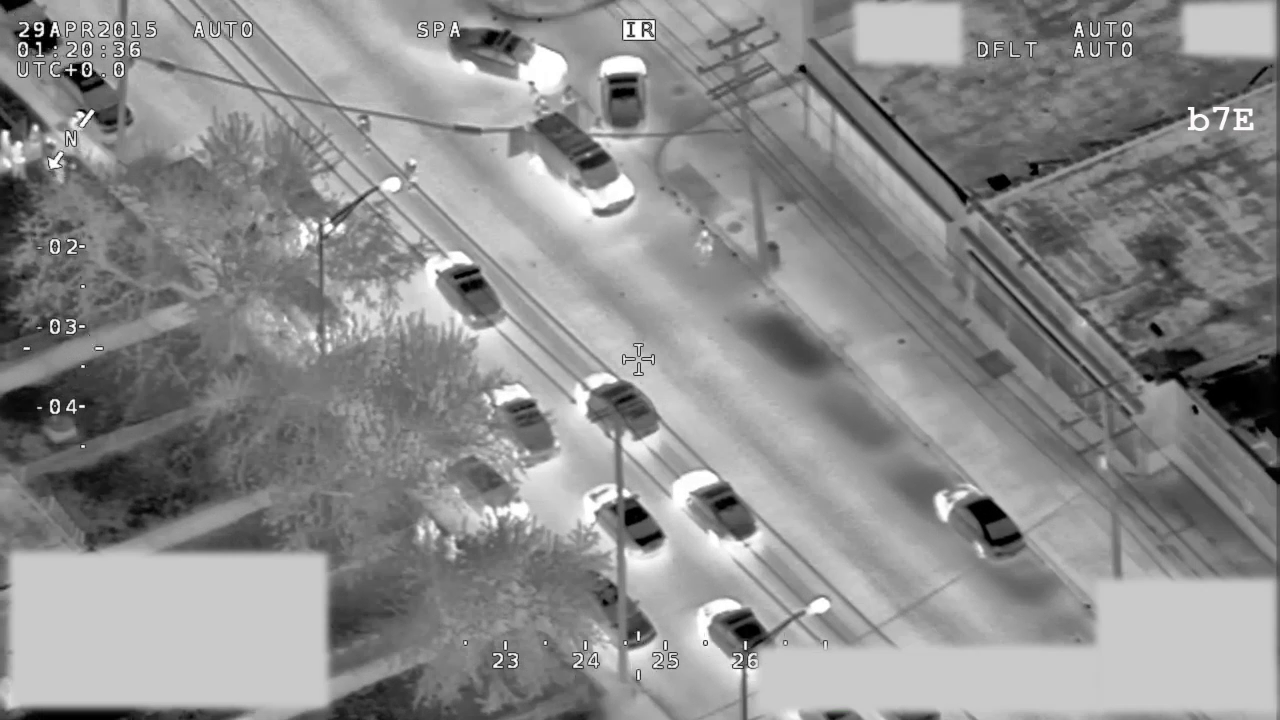vehicle: (502, 106, 638, 218), (470, 369, 564, 475), (927, 471, 1030, 567), (447, 23, 571, 97), (415, 238, 510, 334), (669, 459, 762, 555), (560, 567, 660, 654), (573, 365, 662, 451), (581, 477, 671, 562), (440, 454, 535, 531), (693, 592, 771, 677), (57, 60, 137, 139), (596, 48, 649, 139), (1, 1, 60, 56)
